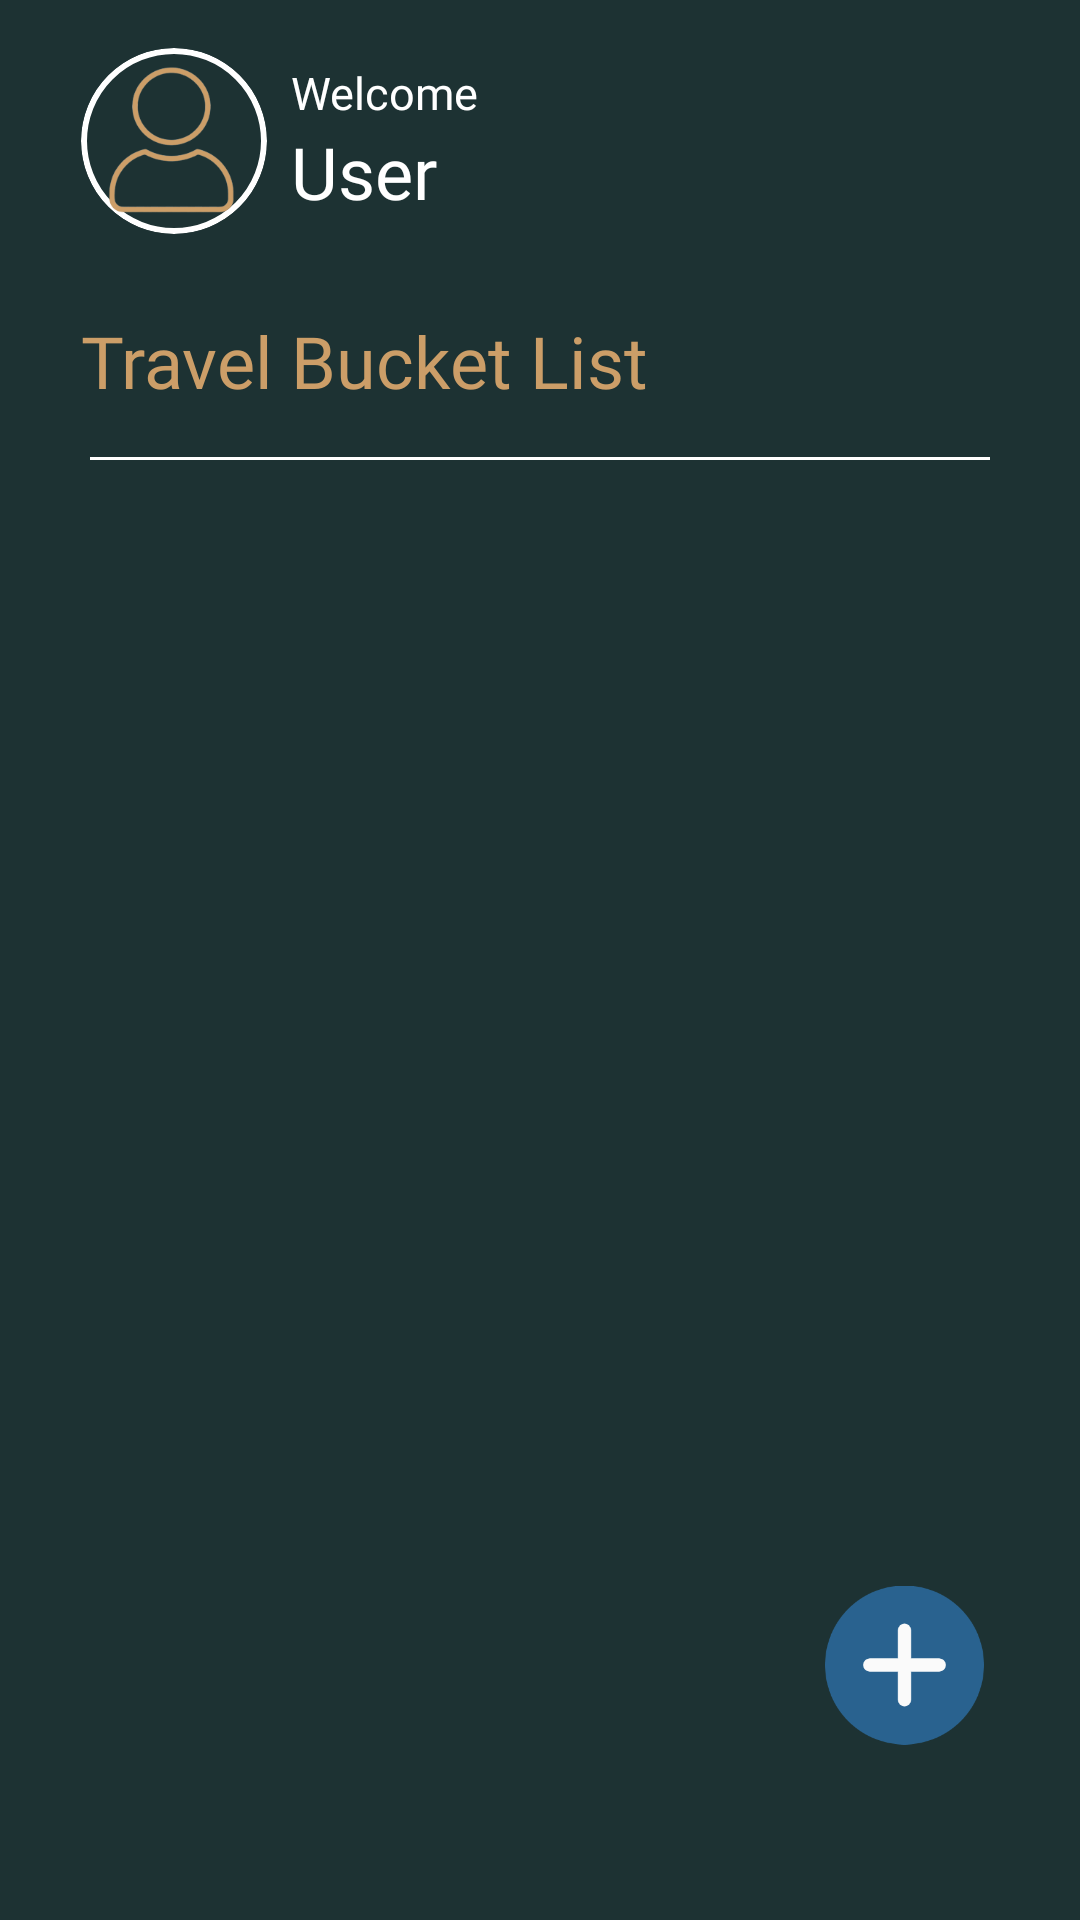

Icon click points for this 1080px x 1920px phone screenshot, format point (x, y):
Add new travel destination: point (904, 1665)
